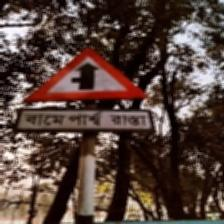Side-road-left: (18, 47, 152, 135)
